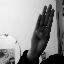b: (29, 3, 56, 56)
